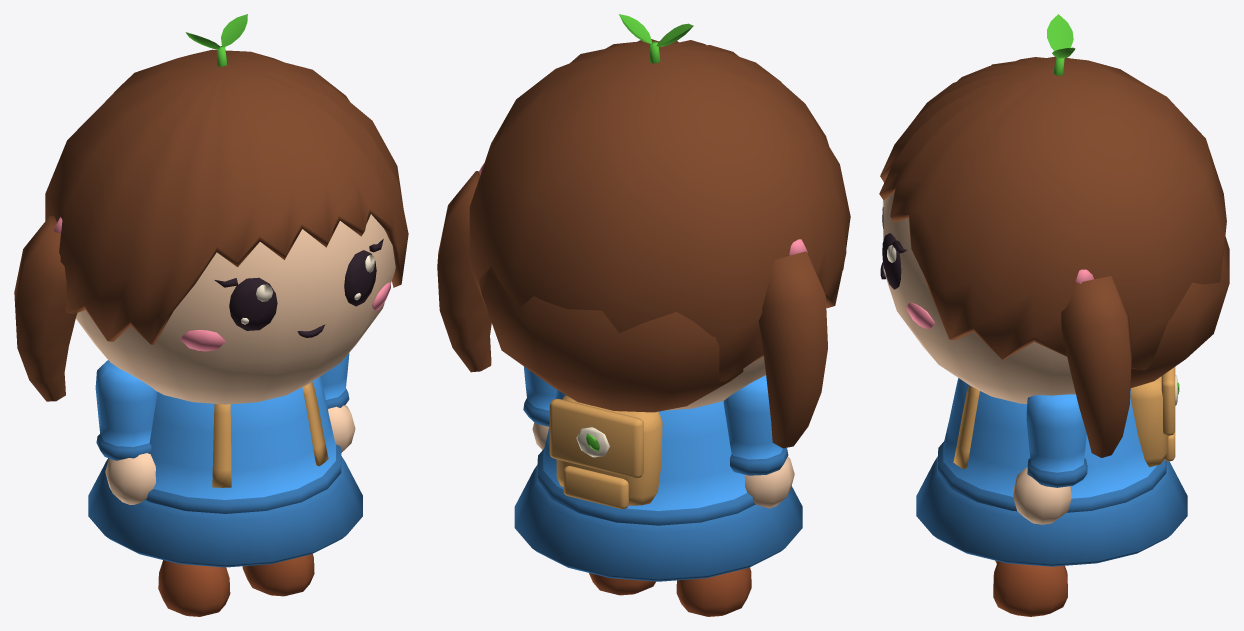
The model's file is hero-woman-tiny.glb.
3 renders of one model, left to right at view 1: azimuth 30°, elevation 25°; view 2: azimuth 150°, elevation 25°; view 3: azimuth 270°, elevation 25°, orthographic. The views are drawn at different scales.
Visible parts, largest first — view 1: head, body, arm-left, leg-left, leg-right, arm-right, head-leaf; view 2: head, body, arm-left, leg-left, arm-right, head-leaf, leg-right; view 3: head, body, arm-right, leg-right, head-leaf.
Boxes of the visible parts, <box> form: head: <box>14,49,408,404</box>; body: <box>88,376,362,567</box>; arm-left: <box>95,360,157,504</box>; leg-left: <box>158,560,230,616</box>; leg-right: <box>242,554,314,596</box>; arm-right: <box>320,353,355,452</box>; head-leaf: <box>185,14,247,66</box>; head: <box>437,39,850,448</box>; body: <box>514,390,802,581</box>; arm-left: <box>723,375,794,508</box>; leg-left: <box>676,567,751,616</box>; arm-right: <box>523,366,556,449</box>; head-leaf: <box>619,14,693,63</box>; leg-right: <box>589,573,655,595</box>; head: <box>879,56,1229,457</box>; body: <box>916,367,1187,566</box>; arm-right: <box>1013,394,1087,524</box>; leg-right: <box>993,561,1067,616</box>; head-leaf: <box>1047,14,1075,75</box>.
Bounding box in the file's own units: 1.59 × 2.3 × 1.31.
